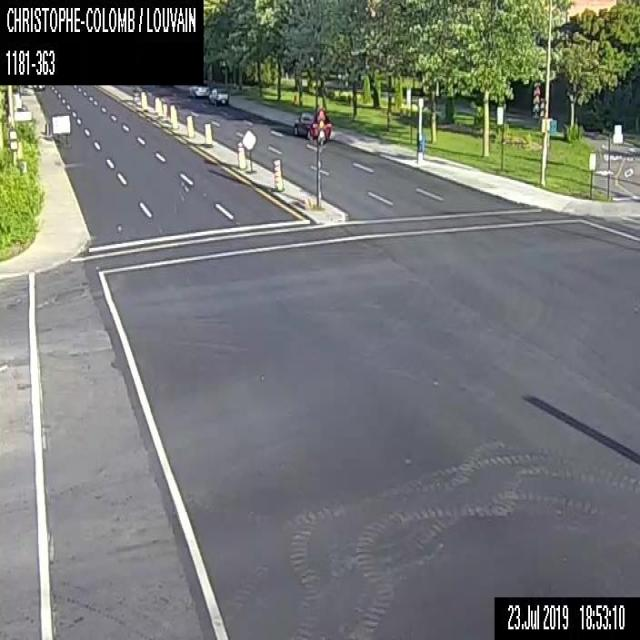construction: (242, 130, 255, 173), (271, 156, 284, 189), (236, 141, 247, 168), (203, 123, 211, 147), (186, 115, 193, 136), (162, 101, 168, 122), (156, 99, 162, 118), (171, 110, 177, 128), (154, 96, 159, 116), (140, 90, 146, 106), (170, 104, 174, 124)
vehicle: (292, 111, 331, 138), (208, 86, 229, 106), (188, 82, 208, 97), (32, 84, 45, 91)
